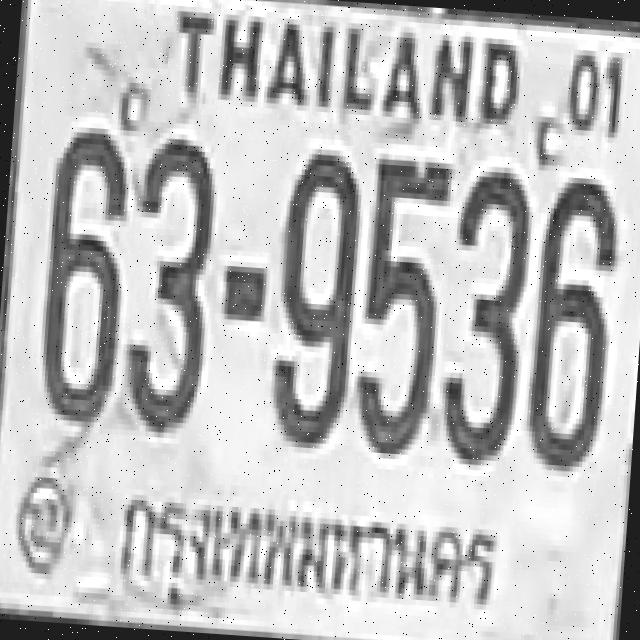3: (120, 131, 216, 429), (438, 164, 532, 462)
5: (351, 152, 451, 456)
6: (523, 170, 620, 468), (35, 125, 129, 428)
9: (267, 144, 361, 447)
Bangkok: (101, 465, 516, 640)
